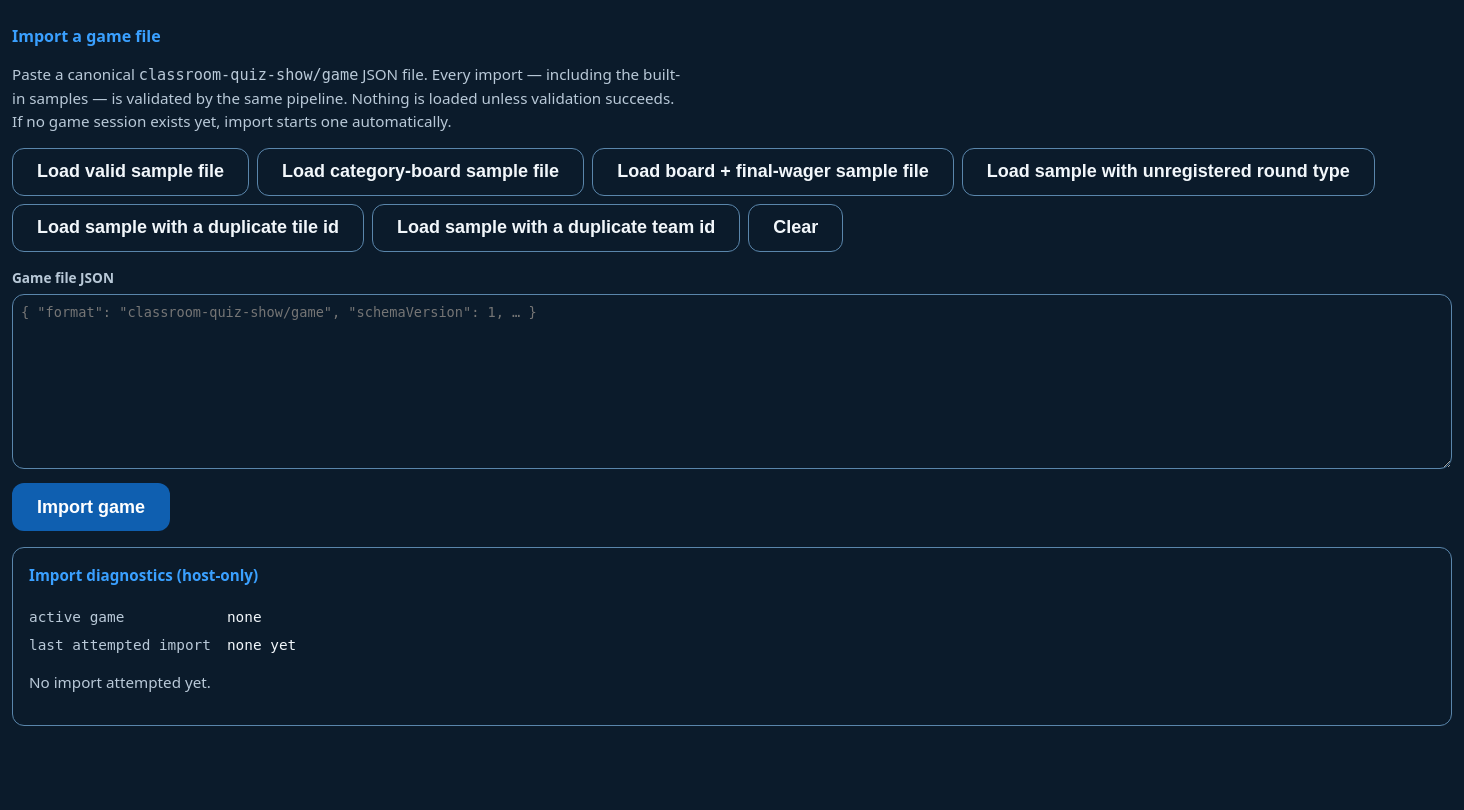
Scenario: GameImportPanel › reports an empty textarea rather than doing nothing
This screenshot has width=1464, height=810.
Click the button with test id "import-run" at (91, 507), box x1=12 y1=483 x2=170 y2=531
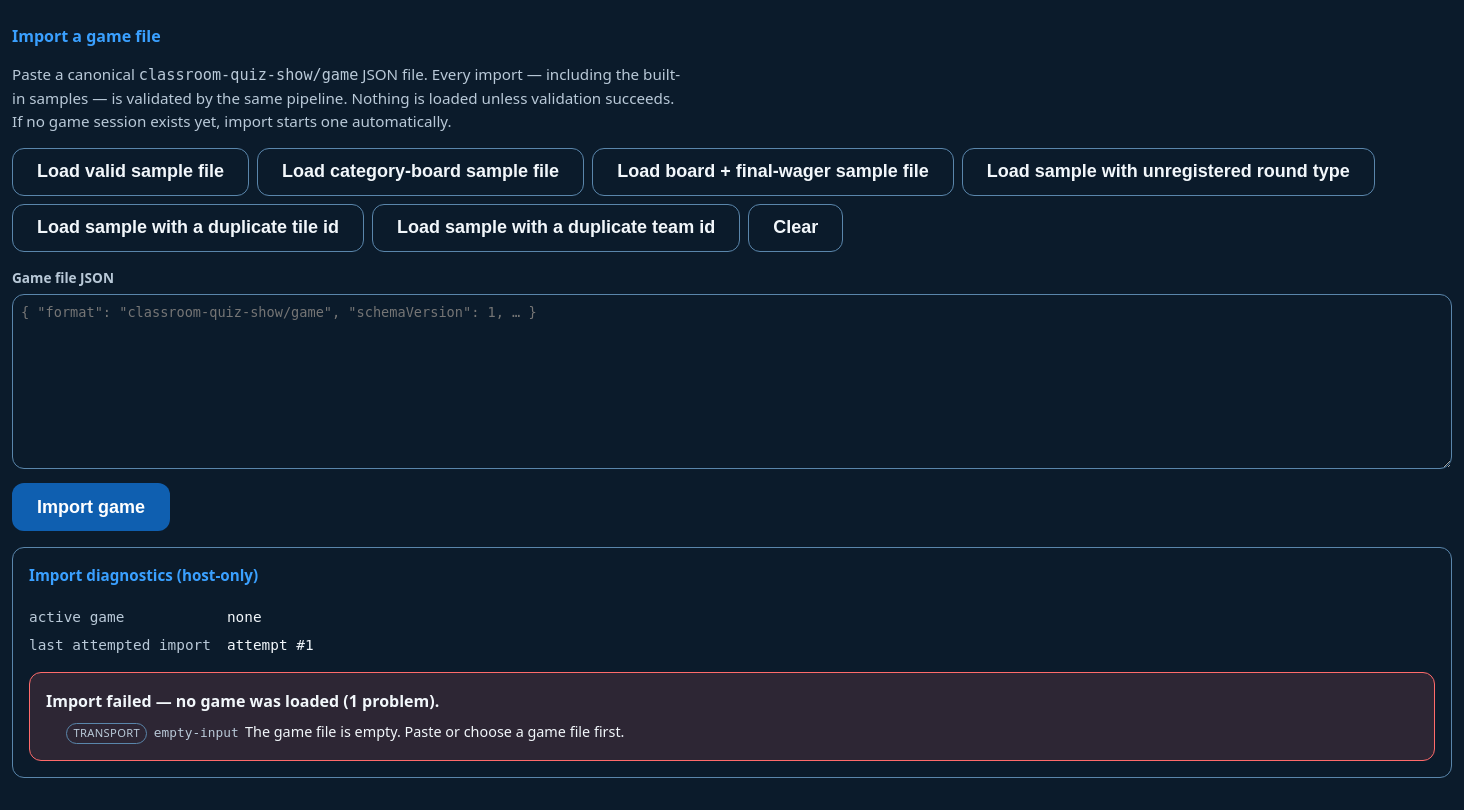
Expected: the element with test id "import-result" shows "empty-input", x1=154 y1=725 x2=239 y2=740
